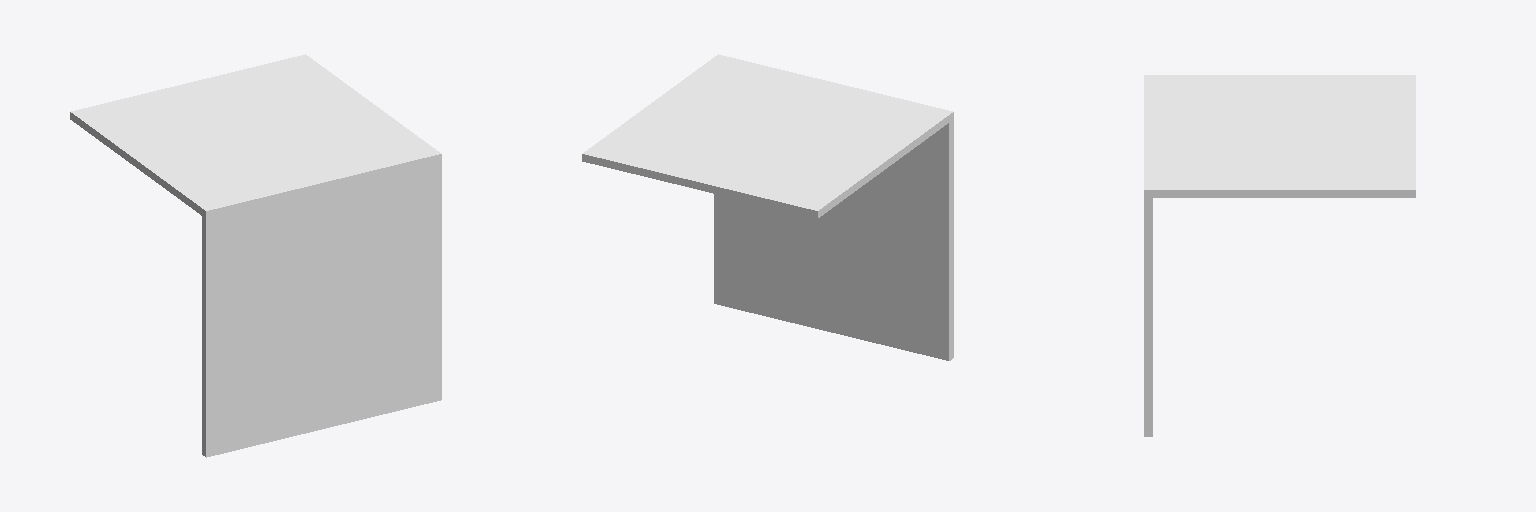
3 views of the same model, side by side, from view 1: azimuth 30°, elevation 25°; view 2: azimuth 150°, elevation 25°; view 3: azimuth 270°, elevation 25° (orthographic).
Parts seen in each view (by area): view 1: test-12; view 2: test-12; view 3: test-12.
Part boxes in pixels (x1,y1,x2,y2): test-12: (70, 54, 441, 457); test-12: (582, 54, 953, 360); test-12: (1144, 75, 1415, 436).
Size of the model in its own units: 32 by 32 by 32.